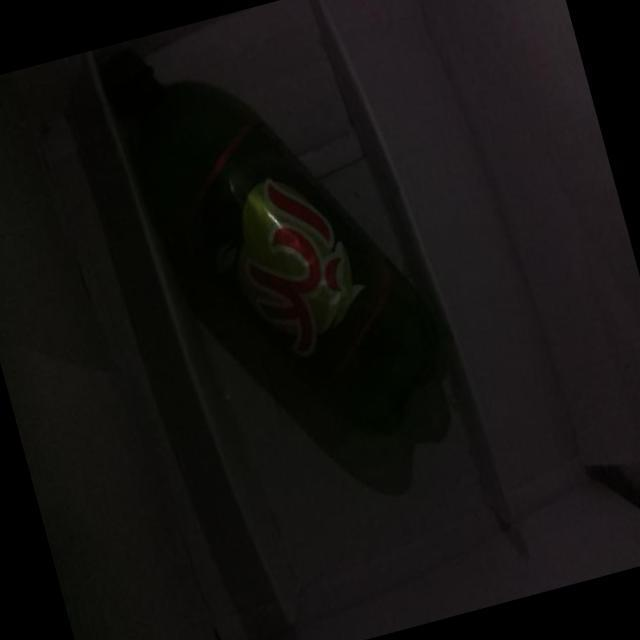good: (83, 0, 498, 552)
